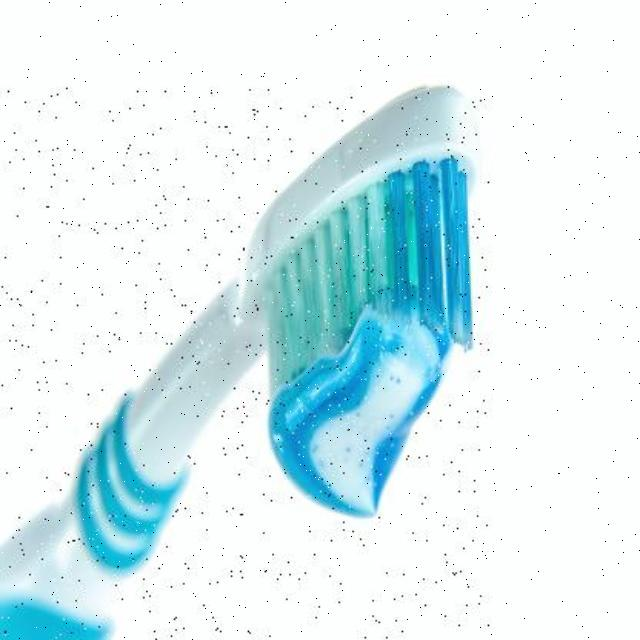toothbrush: (1, 85, 490, 640)
